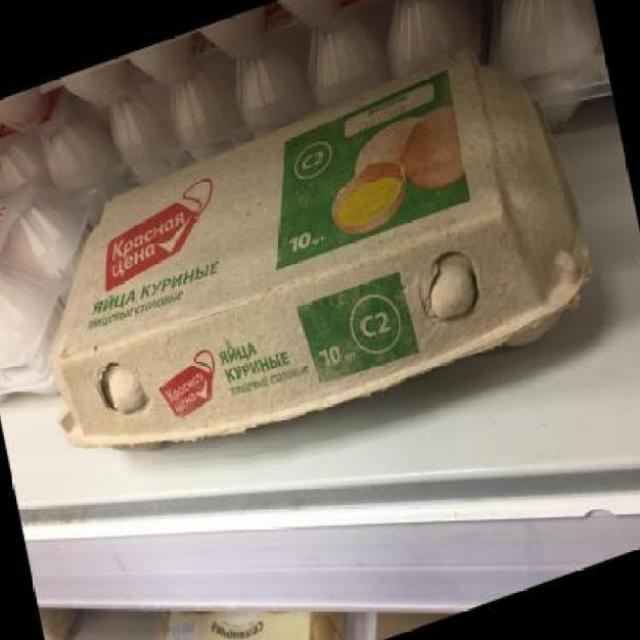Egg: (17, 27, 612, 509), (0, 163, 112, 404)
